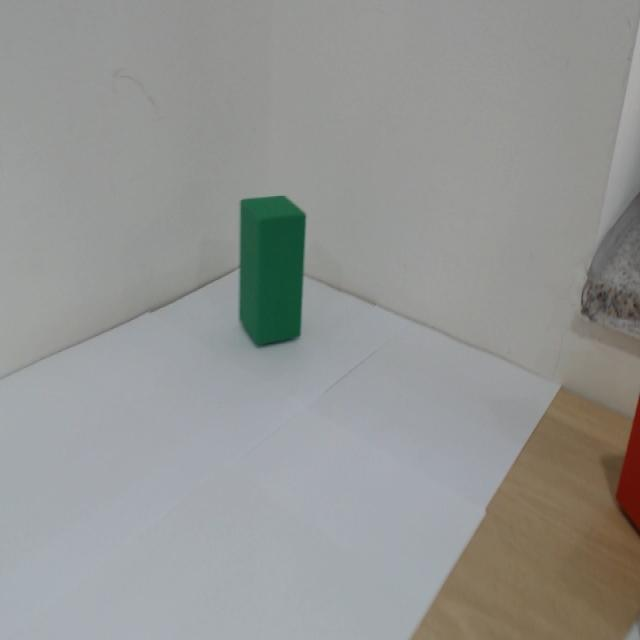cube: (212, 121, 316, 426)
